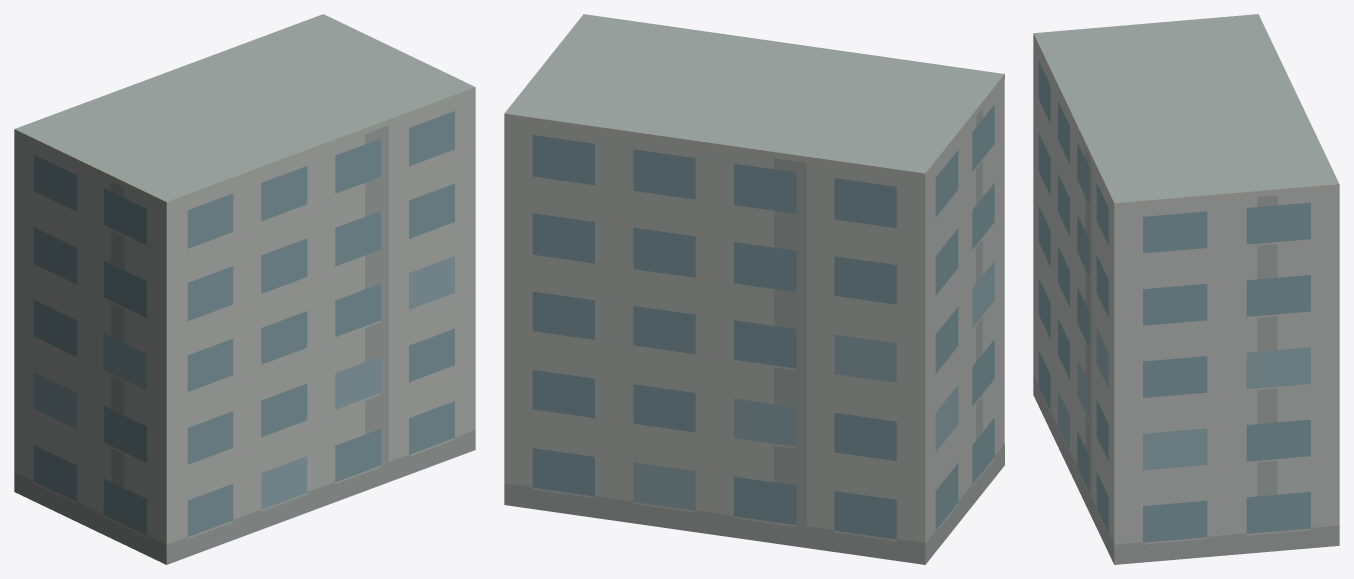
The model's file is residential-fe4c50f4-197a-43d3-a1e5-d7bebb04d752.glb.
3 renders of one model, left to right at view 1: azimuth 30°, elevation 25°; view 2: azimuth 150°, elevation 25°; view 3: azimuth 270°, elevation 25°, orthographic. The views are drawn at different scales.
Parts seen in each view (by area): view 1: residential-fe4c50f4-197a-43d3-a1e5-d7bebb04d752.tmp; view 2: residential-fe4c50f4-197a-43d3-a1e5-d7bebb04d752.tmp; view 3: residential-fe4c50f4-197a-43d3-a1e5-d7bebb04d752.tmp.
Part boxes in pixels (x1,y1,x2,y2): residential-fe4c50f4-197a-43d3-a1e5-d7bebb04d752.tmp: (14,14,475,564); residential-fe4c50f4-197a-43d3-a1e5-d7bebb04d752.tmp: (504,14,1004,564); residential-fe4c50f4-197a-43d3-a1e5-d7bebb04d752.tmp: (1033,14,1339,564).
Size of the model in its own units: 17.13 by 15.25 by 11.71.
